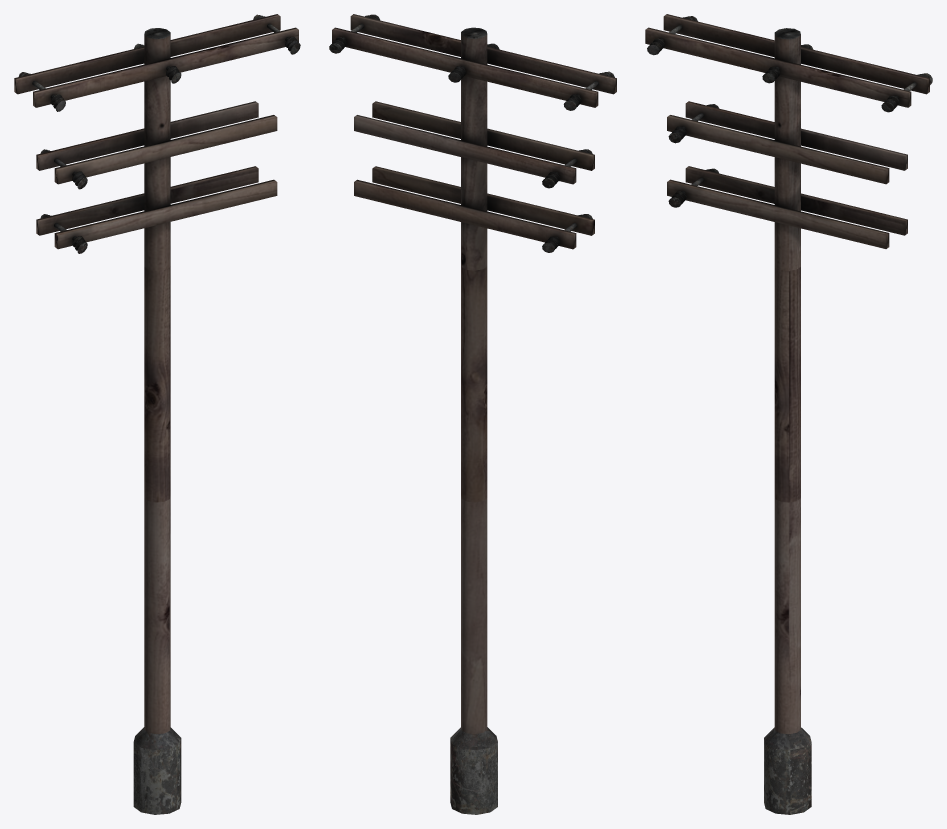
Rendered from PowerPoll.fbx.
3 views of the same model, side by side, from view 1: azimuth 30°, elevation 25°; view 2: azimuth 150°, elevation 25°; view 3: azimuth 330°, elevation 25° (orthographic).
Parts seen in each view (by area): view 1: Cylinder_004; view 2: Cylinder_004; view 3: Cylinder_004.
Boxes of the visible parts, x1=… form: Cylinder_004: x1=14, y1=14, x2=300, y2=814; Cylinder_004: x1=329, y1=14, x2=616, y2=814; Cylinder_004: x1=645, y1=14, x2=932, y2=814.
Bounding box in the file's own units: 2.1 × 5.87 × 0.5573.
